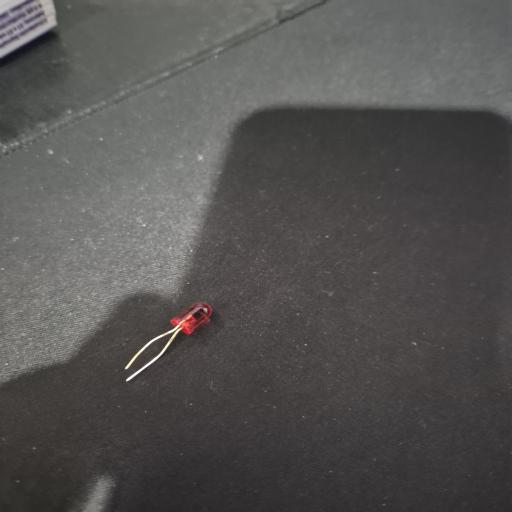led-diode: (170, 301, 224, 335)
